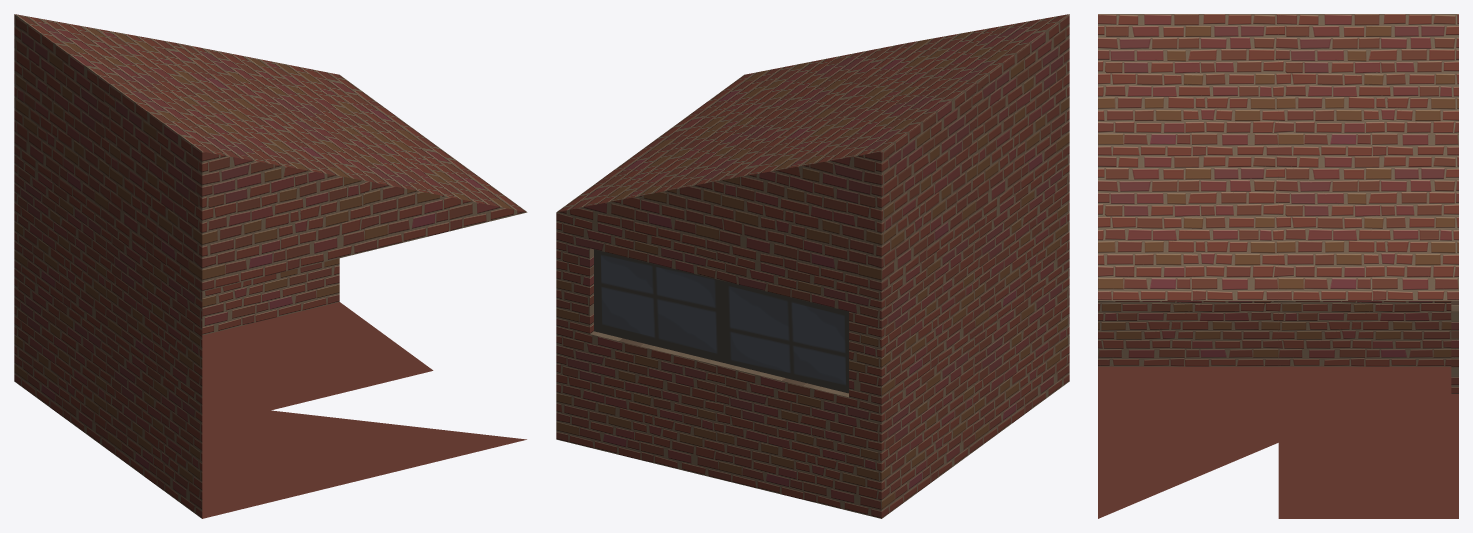
Rendered from Bock_A4(1).fbx.
The picture shows the model from 3 angles, left to right: view 1: azimuth 30°, elevation 25°; view 2: azimuth 150°, elevation 25°; view 3: azimuth 270°, elevation 25°; orthographic projection. The views are drawn at different scales.
Visible parts, largest first — view 1: Bock_A4; view 2: Bock_A4; view 3: Bock_A4.
Boxes of the visible parts, <box> form: Bock_A4: <box>14,14,527,518</box>; Bock_A4: <box>556,14,1069,518</box>; Bock_A4: <box>1098,14,1458,518</box>.
Bounding box in the file's own units: 600 × 647 × 600.
